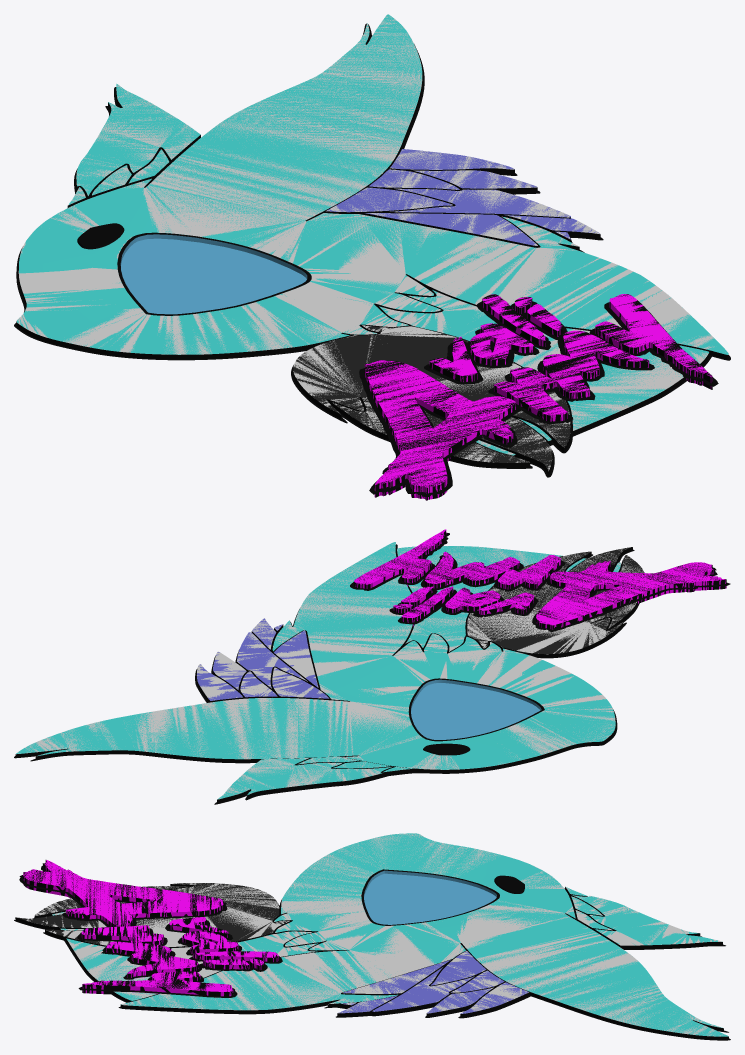
File: avaliarmy.fbx
3 views of the same model, one above another, from view 1: azimuth 30°, elevation 25°; view 2: azimuth 150°, elevation 25°; view 3: azimuth 270°, elevation 25° (orthographic). The views are drawn at different scales.
Visible parts, largest first — view 1: Curve, Curve.006, Curve.005, Curve.007; view 2: Curve, Curve.006, Curve.005, Curve.007; view 3: Curve, Curve.006, Curve.005, Curve.007.
Part boxes in pixels (x1,y1,x2,y2): Curve: (14,14,730,500); Curve.006: (14,14,730,476); Curve.005: (364,294,712,500); Curve.007: (359,301,718,496); Curve: (14,529,726,804); Curve.006: (14,542,644,803); Curve.005: (354,530,726,629); Curve.007: (350,532,730,631); Curve: (14,833,730,1040); Curve.006: (14,833,728,1040); Curve.005: (23,860,278,996); Curve.007: (19,863,282,997).
Bounding box in the file's own units: 123 × 2.46 × 182.
